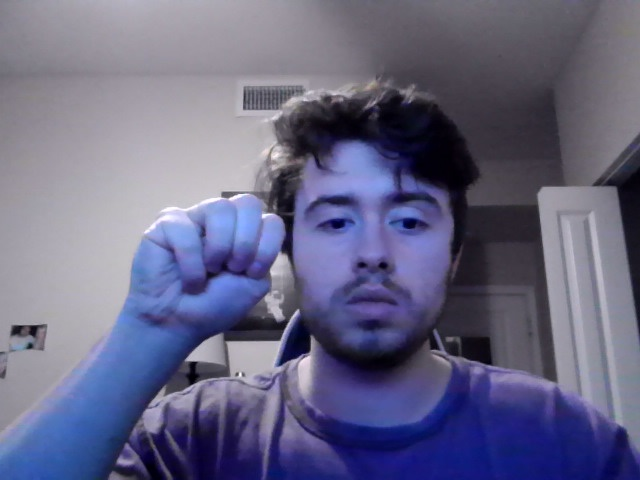m: (126, 193, 287, 344)
